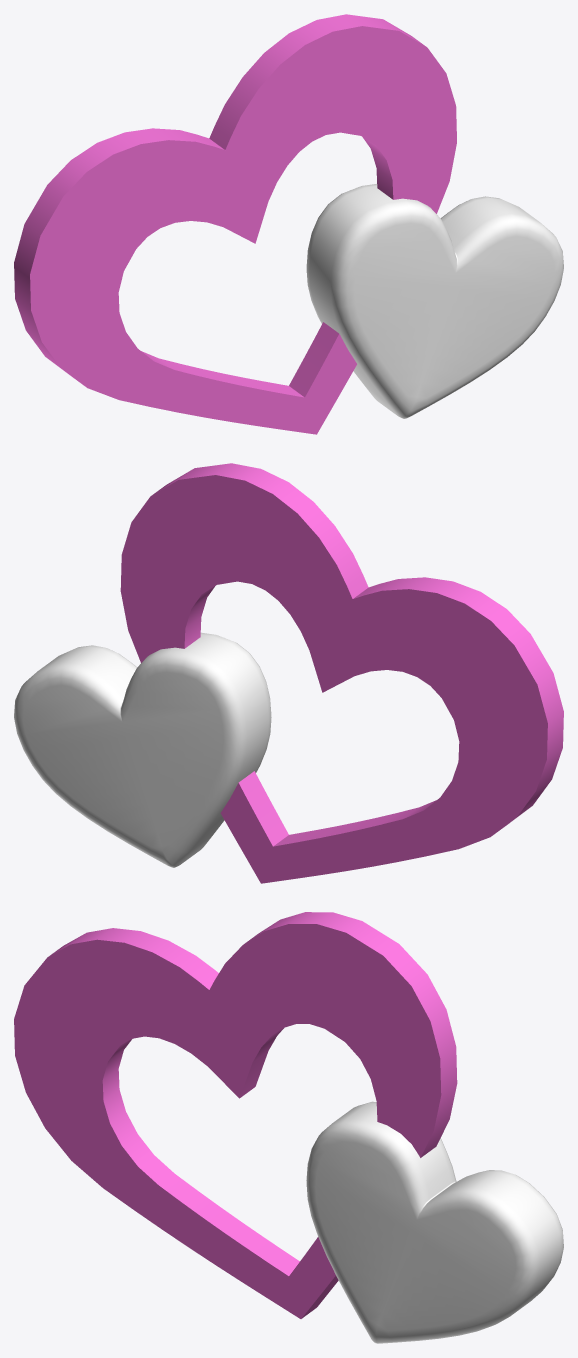
Rendered from Cake_ThemeValentine_C.FBX.
3 renders of one model, top to bottom at view 1: azimuth 30°, elevation 25°; view 2: azimuth 150°, elevation 25°; view 3: azimuth 330°, elevation 25°, orthographic.
Parts seen in each view (by area): view 1: Cake_ThemeValentine_C; view 2: Cake_ThemeValentine_C; view 3: Cake_ThemeValentine_C.
Boxes of the visible parts, x1,y1,x2,y2 form: Cake_ThemeValentine_C: [14, 14, 563, 434]; Cake_ThemeValentine_C: [14, 463, 563, 883]; Cake_ThemeValentine_C: [14, 912, 563, 1343].
Bounding box in the file's own units: 105118 × 75934 × 13332.
